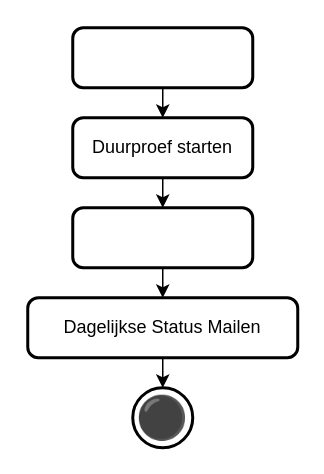
This 324x474 diagram has some shape labels left out. The centre of each missing label's shape, as x and y in pixels:
Einde Werkdag: point (162, 57)
Uren Registreren: point (162, 237)
